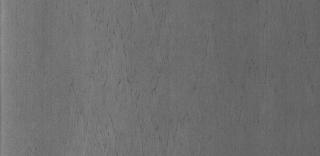silk spot: (95, 14, 187, 152)
